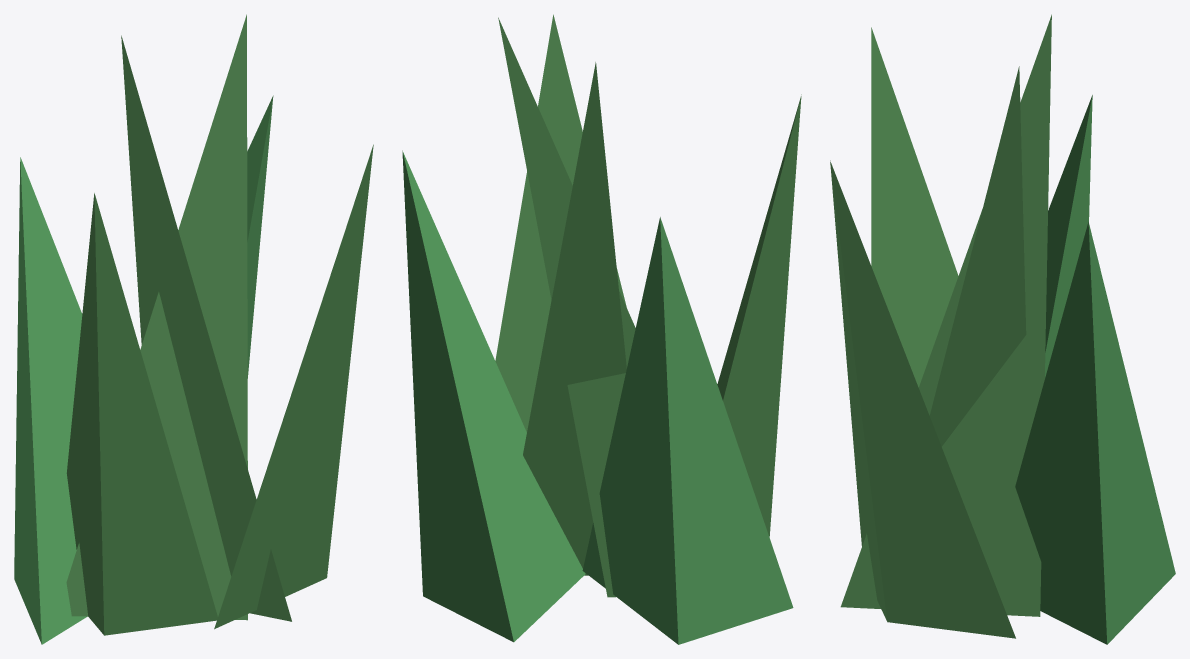
Rendered from Grass.fbx.
3 renders of one model, left to right at view 1: azimuth 30°, elevation 25°; view 2: azimuth 150°, elevation 25°; view 3: azimuth 270°, elevation 25°, orthographic. The views are drawn at different scales.
Visible parts, largest first — view 1: Cone.004; view 2: Cone.004; view 3: Cone.004.
Boxes of the visible parts, x1,y1,x2,y2 form: Cone.004: (14, 14, 373, 644); Cone.004: (402, 14, 801, 644); Cone.004: (830, 14, 1175, 644).
Size of the model in its own units: 198 by 337 by 186.
